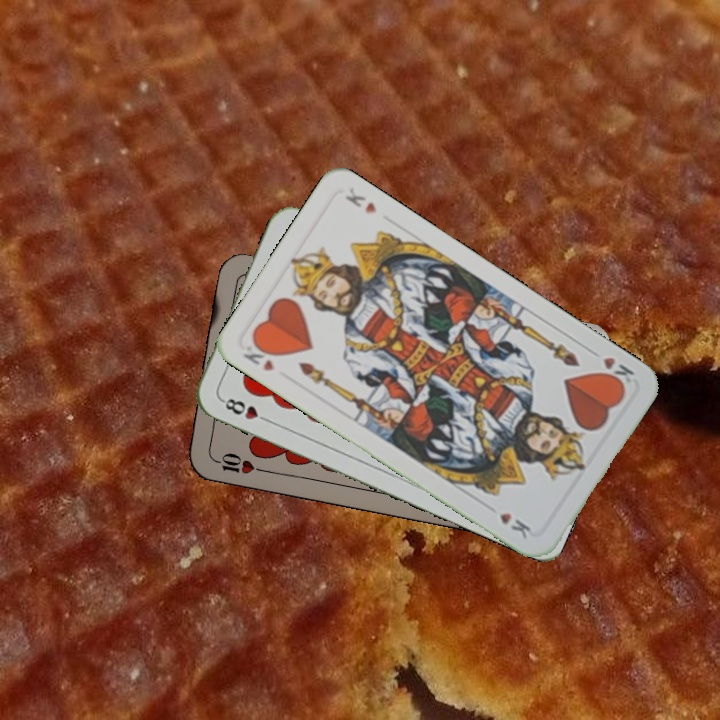H10: (207, 448, 266, 477)
H8: (217, 394, 273, 425)
HK: (592, 352, 637, 390), (239, 337, 280, 374)
